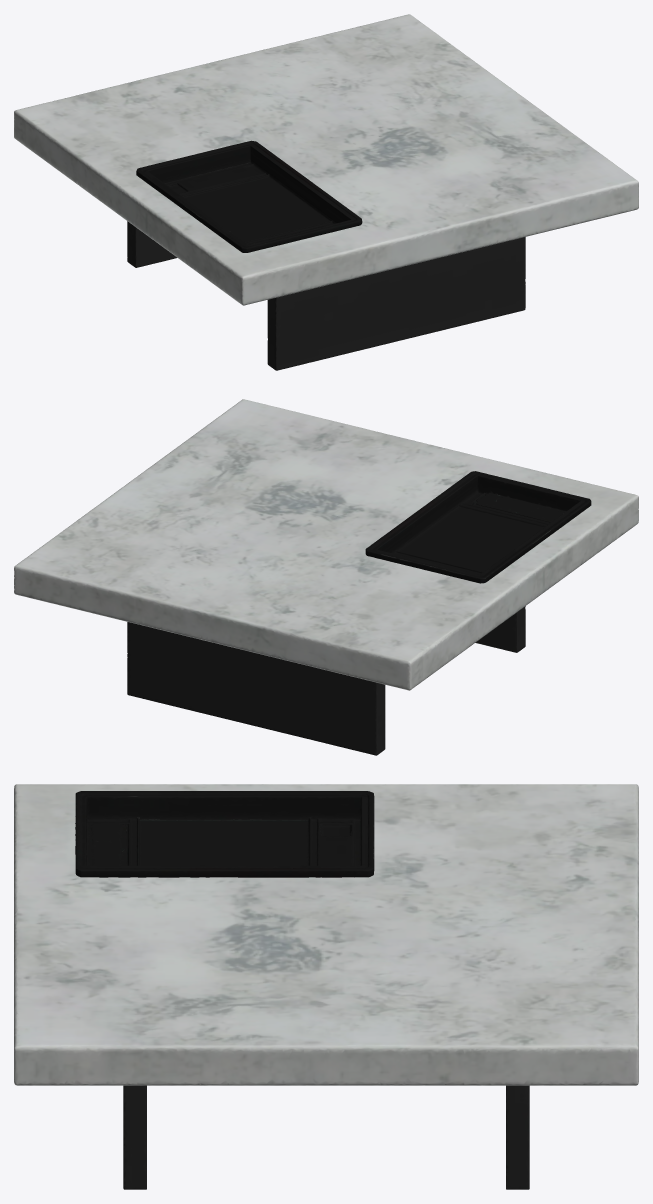
The model's file is contemporary_square_coffee_table_hteled.glb.
3 views of the same model, one above another, from view 1: azimuth 30°, elevation 25°; view 2: azimuth 150°, elevation 25°; view 3: azimuth 270°, elevation 25° (orthographic). The views are drawn at different scales.
Parts seen in each view (by area): view 1: world; view 2: world; view 3: world.
Boxes of the visible parts, left/top/right/bottom form: world: left=14, top=14, right=638, bottom=370; world: left=14, top=399, right=638, bottom=755; world: left=14, top=784, right=638, bottom=1189.
Bounding box in the file's own units: 1 × 0.3545 × 1.
1 material, 1 textured.
